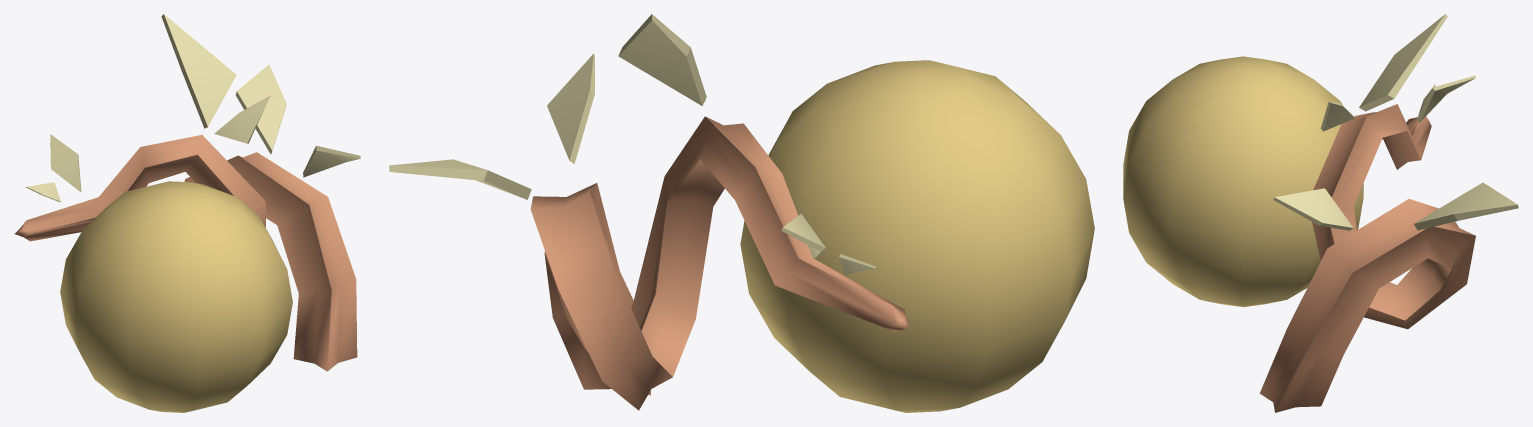
The model's file is starPlant_stage3.fbx.
The picture shows the model from 3 angles, left to right: view 1: azimuth 30°, elevation 25°; view 2: azimuth 150°, elevation 25°; view 3: azimuth 270°, elevation 25°; orthographic projection. The views are drawn at different scales.
Visible parts, largest first — view 1: starPlant_fruit, starPlant_stem, starPlant_leaf01, starPlant_leaf05, starPlant_leaf02, starPlant_leaf04, starPlant_leaf03, starPlant_leaf06; view 2: starPlant_fruit, starPlant_stem, starPlant_leaf01, starPlant_leaf03, starPlant_leaf05, starPlant_leaf04; view 3: starPlant_fruit, starPlant_stem, starPlant_leaf01, starPlant_leaf05, starPlant_leaf03, starPlant_leaf04, starPlant_leaf02.
Boxes of the visible parts, x1,y1,x2,y2 form: starPlant_fruit: [60, 181, 292, 412]; starPlant_stem: [14, 135, 357, 371]; starPlant_leaf01: [161, 14, 236, 128]; starPlant_leaf05: [235, 64, 286, 154]; starPlant_leaf02: [214, 96, 270, 143]; starPlant_leaf04: [50, 134, 81, 192]; starPlant_leaf03: [303, 145, 360, 177]; starPlant_leaf06: [26, 182, 60, 202]; starPlant_fruit: [740, 60, 1094, 412]; starPlant_stem: [530, 116, 908, 410]; starPlant_leaf01: [618, 14, 706, 106]; starPlant_leaf03: [547, 53, 594, 164]; starPlant_leaf05: [389, 159, 531, 199]; starPlant_leaf04: [781, 214, 825, 259]; starPlant_fruit: [1123, 56, 1363, 307]; starPlant_stem: [1259, 104, 1475, 412]; starPlant_leaf01: [1359, 14, 1447, 111]; starPlant_leaf05: [1414, 182, 1518, 230]; starPlant_leaf03: [1273, 188, 1353, 230]; starPlant_leaf04: [1416, 75, 1476, 122]; starPlant_leaf02: [1320, 101, 1354, 131].
Size of the model in its own units: 7.5 by 7 by 7.41.
